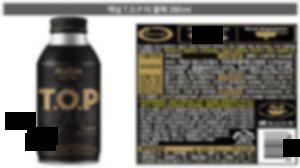TOP_black: (32, 14, 108, 167)
